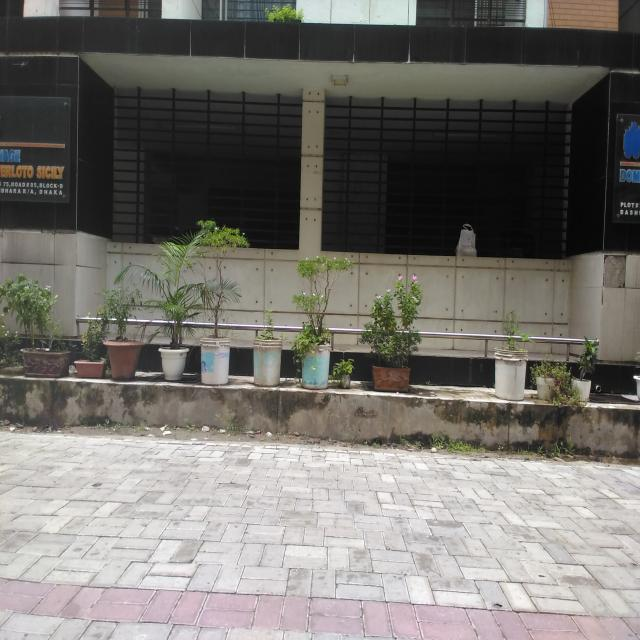artificial_container: (493, 345, 530, 402), (101, 337, 148, 381), (298, 332, 332, 391), (251, 333, 284, 387), (199, 333, 232, 387), (158, 343, 190, 382), (536, 369, 558, 402), (571, 376, 592, 402)
